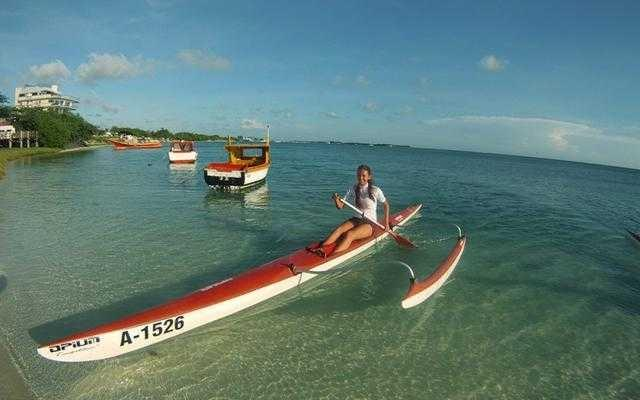kayak: (31, 200, 425, 365), (203, 121, 273, 192), (168, 138, 198, 164), (110, 138, 162, 150), (626, 229, 640, 243)
